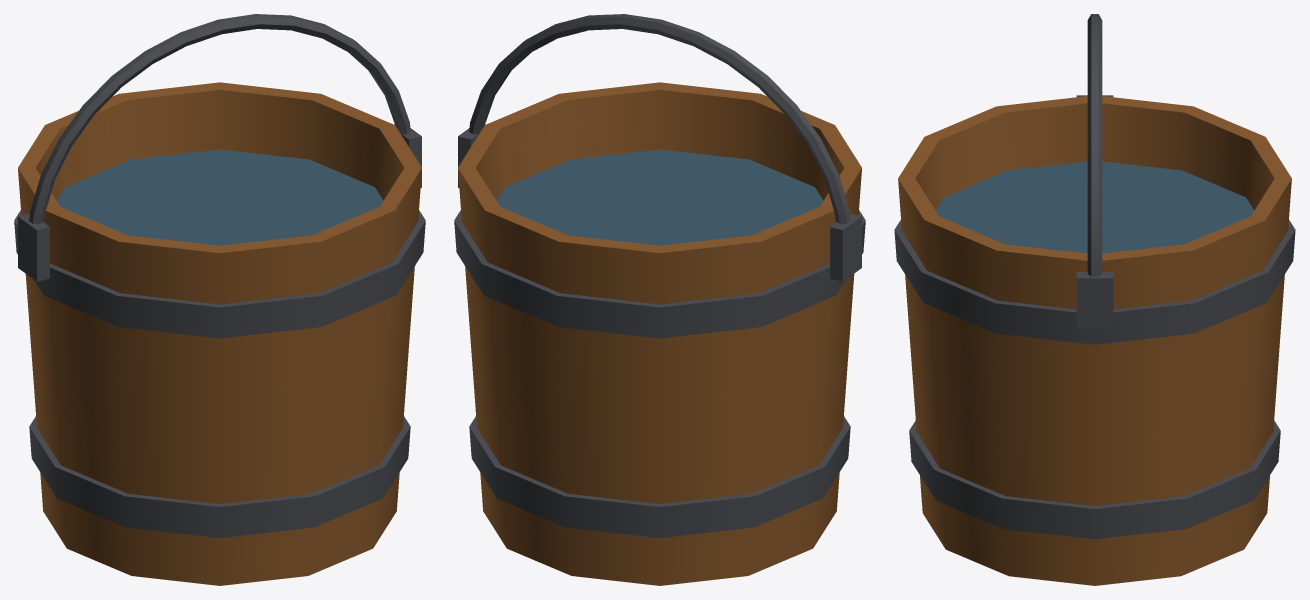
Rendered from water-bucket_final.glb.
3 views of the same model, side by side, from view 1: azimuth 30°, elevation 25°; view 2: azimuth 150°, elevation 25°; view 3: azimuth 270°, elevation 25° (orthographic). The views are drawn at different scales.
Visible parts, largest first — view 1: SM_WaterBucket_Body, SM_WaterBucket, SM_WaterBucket_Water, SM_WaterBucket_Handle; view 2: SM_WaterBucket_Body, SM_WaterBucket, SM_WaterBucket_Water, SM_WaterBucket_Handle; view 3: SM_WaterBucket_Body, SM_WaterBucket, SM_WaterBucket_Water, SM_WaterBucket_Handle.
Boxes of the visible parts, x1,y1,x2,y2 form: SM_WaterBucket_Body: (18, 82, 421, 585); SM_WaterBucket: (14, 124, 425, 537); SM_WaterBucket_Water: (56, 149, 383, 245); SM_WaterBucket_Handle: (29, 14, 410, 223); SM_WaterBucket_Body: (458, 82, 861, 585); SM_WaterBucket: (454, 124, 865, 537); SM_WaterBucket_Water: (496, 149, 823, 245); SM_WaterBucket_Handle: (469, 14, 850, 223); SM_WaterBucket_Body: (898, 96, 1291, 585); SM_WaterBucket: (894, 95, 1295, 539); SM_WaterBucket_Water: (935, 161, 1254, 253); SM_WaterBucket_Handle: (1087, 14, 1102, 276).
Bounding box in the file's own units: 0.352 × 0.4282 × 0.3259.
